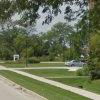Tree: (5, 8, 46, 55)
